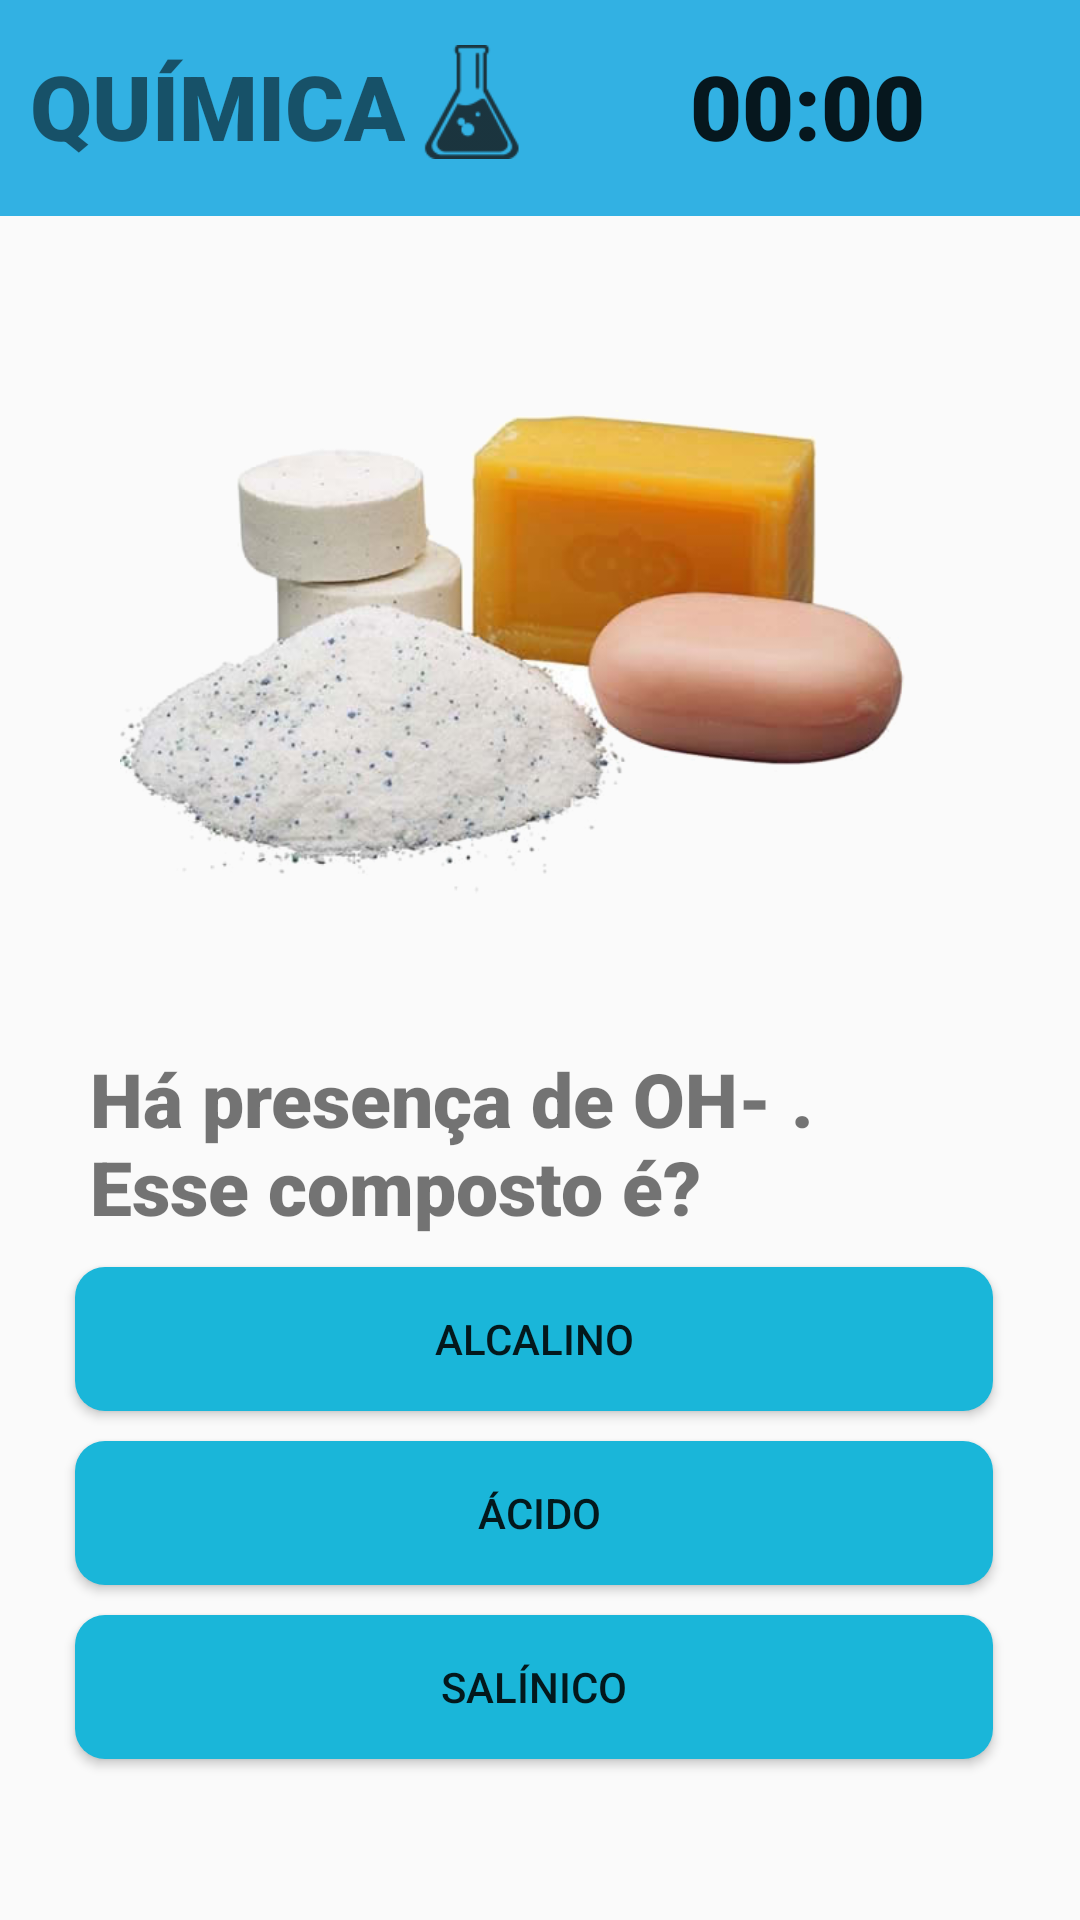

Icon click points for this 1080px×1920px phone screenshot, format point (x, y):
iconqui: point (472, 102)
